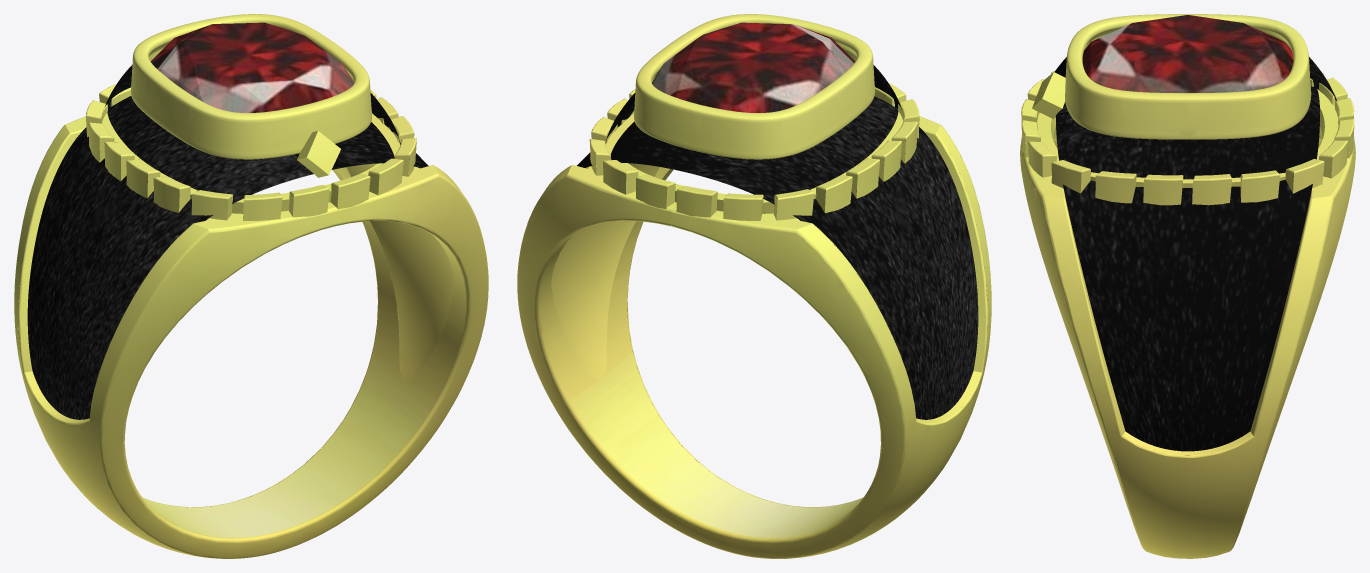
The model's file is ring53.glb.
3 views of the same model, side by side, from view 1: azimuth 30°, elevation 25°; view 2: azimuth 150°, elevation 25°; view 3: azimuth 270°, elevation 25° (orthographic).
Parts seen in each view (by area): view 1: body, black, core; view 2: body, black, core; view 3: body, black, core.
Part boxes in pixels (bbox=[...]): body: bbox=[14, 14, 488, 558]; black: bbox=[27, 65, 428, 419]; core: bbox=[150, 22, 353, 112]; body: bbox=[517, 14, 991, 558]; black: bbox=[577, 65, 978, 419]; core: bbox=[652, 22, 855, 112]; body: bbox=[1020, 14, 1355, 558]; black: bbox=[1054, 57, 1336, 451]; core: bbox=[1082, 15, 1293, 92].
Size of the model in its own units: 22.9 by 26.95 by 16.57.
4 materials, 4 textured.
